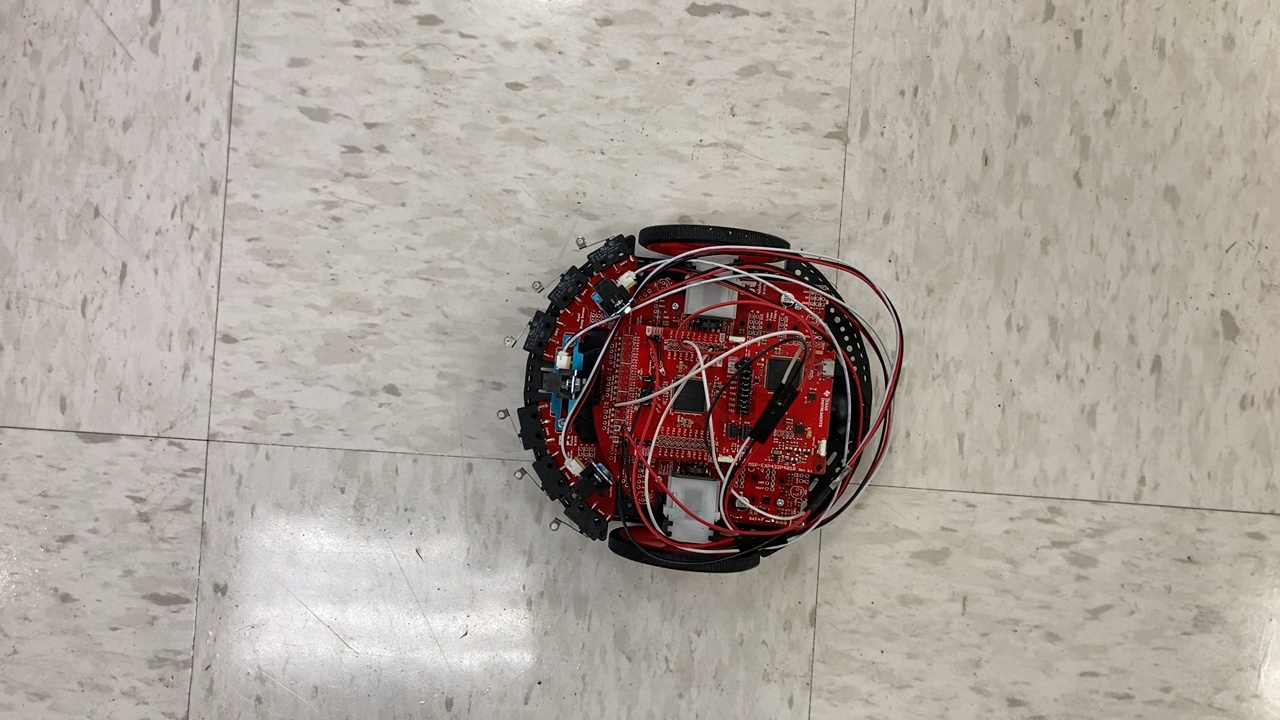robot: (495, 220, 916, 579)
